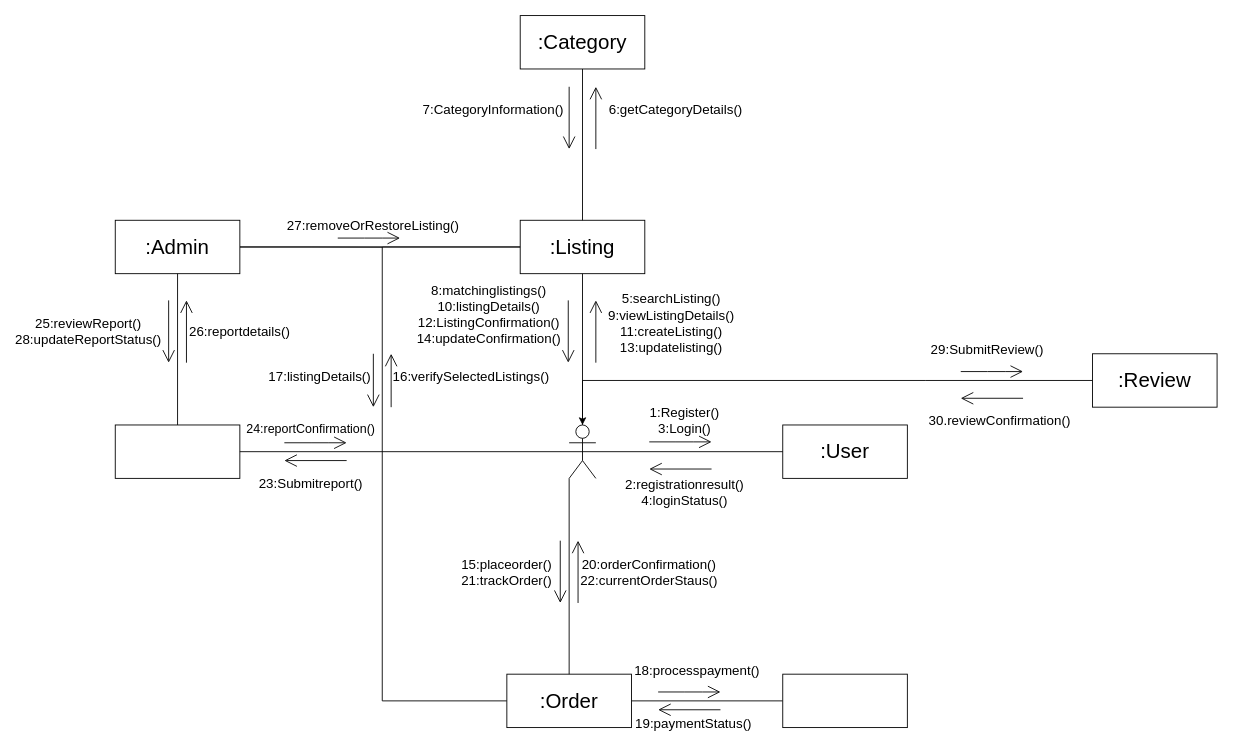
This 1233x752 diagram has some shape labels left out. Each missing label, with the centre of its shape:
":Payment" belongs at point 844,700.
":Report" belongs at point 177,451.
"Student" belongs at point 582,451.
